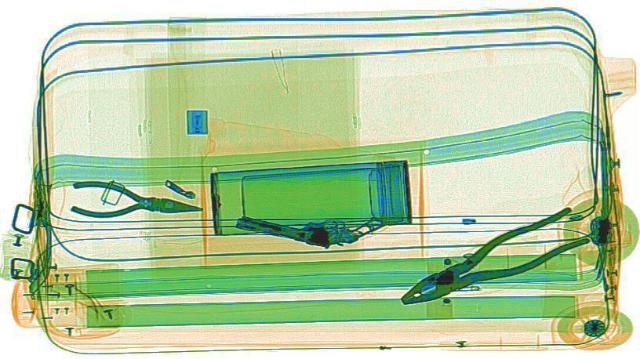Gun: (230, 193, 386, 254)
Pliers: (373, 204, 612, 314), (60, 177, 210, 224)
